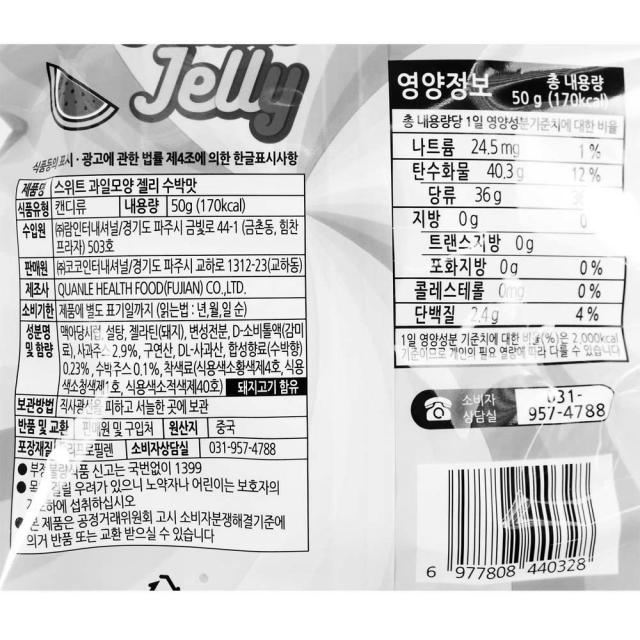Nutrition Label: (381, 46, 640, 375)
